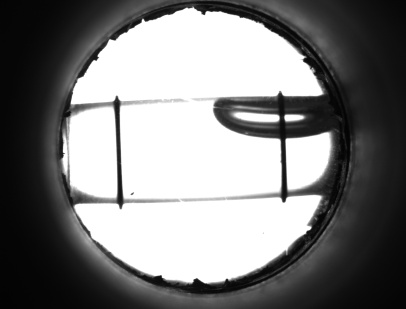line: (109, 116, 127, 186), (276, 145, 290, 185)
